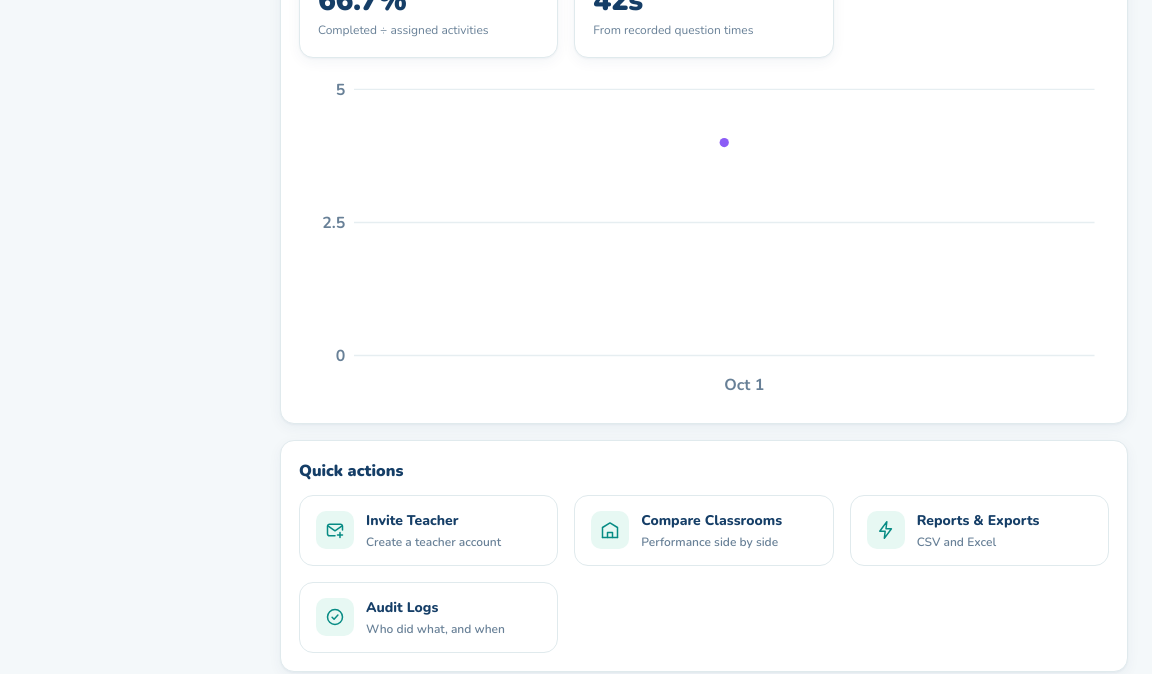
Test: quick actions navigate and the sidebar marks the dashboard as current
The width and height of the screenshot is (1152, 674).
(page scrolled)
Click the button "Reports & Exports CSV and Excel" at point(979, 530), box [850,495,1109,566]
(page scrolled)
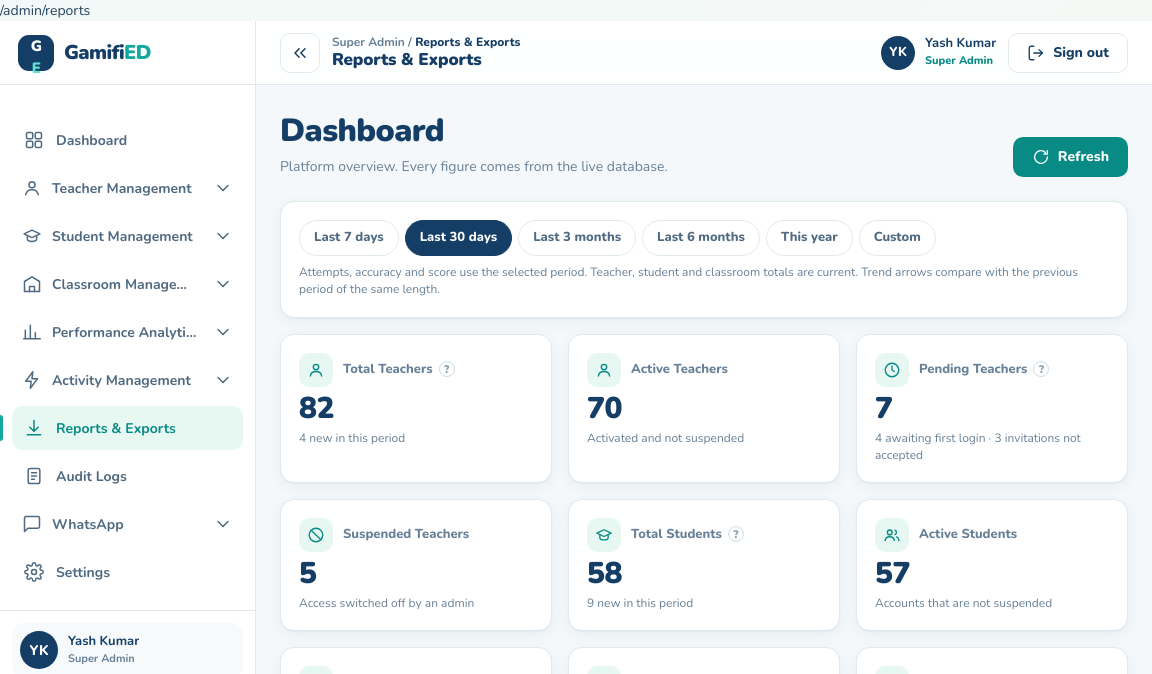
Expected: the text with test id "where" reads "/admin/reports", [0,1,90,20]
